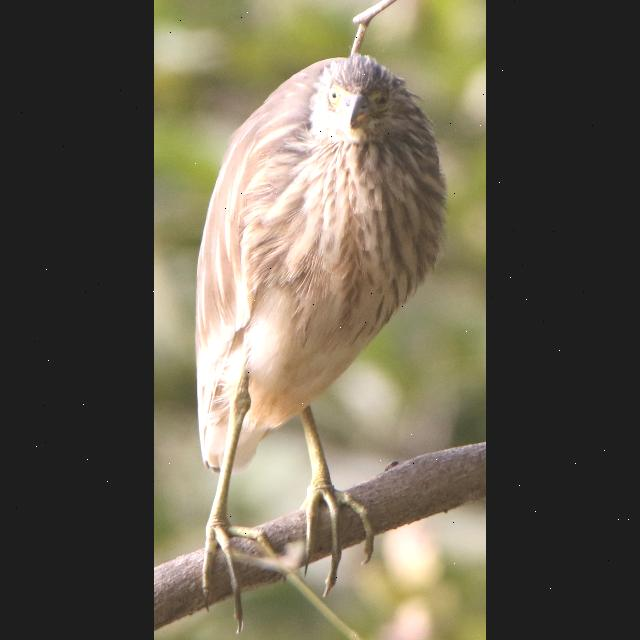heron: (182, 42, 458, 608)
